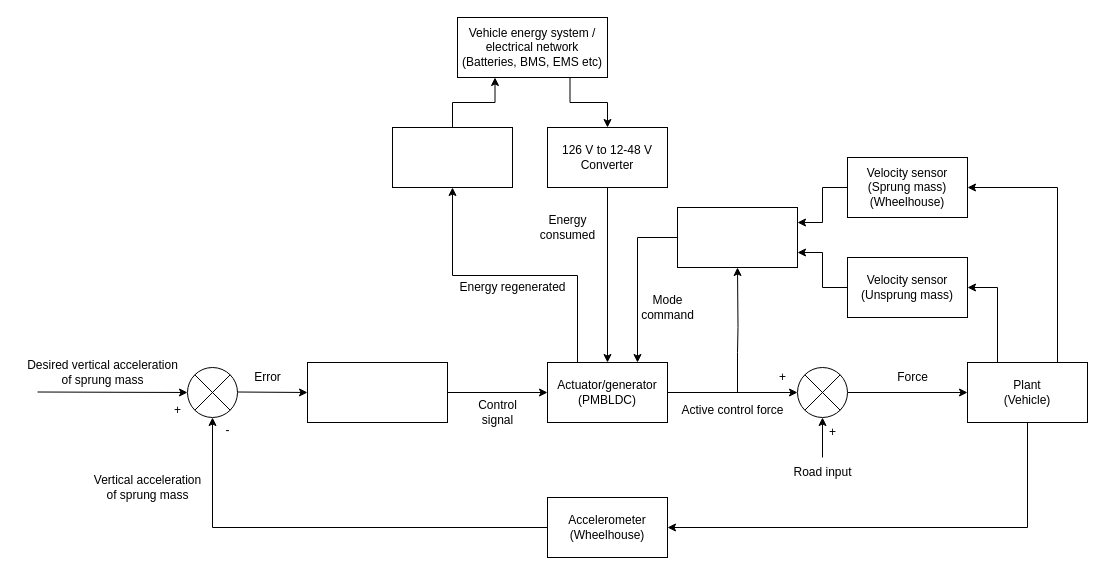
This 1105x575 diagram has some shape labels left out. The centre of each missing label's shape, as x and y in pixels:
"DC-DC converter" goes at (x=452, y=157).
"Mode control unit (Embedded system)" goes at (x=737, y=237).
"PID (Suspension control unit) (Embedded system)" goes at (x=377, y=392).
